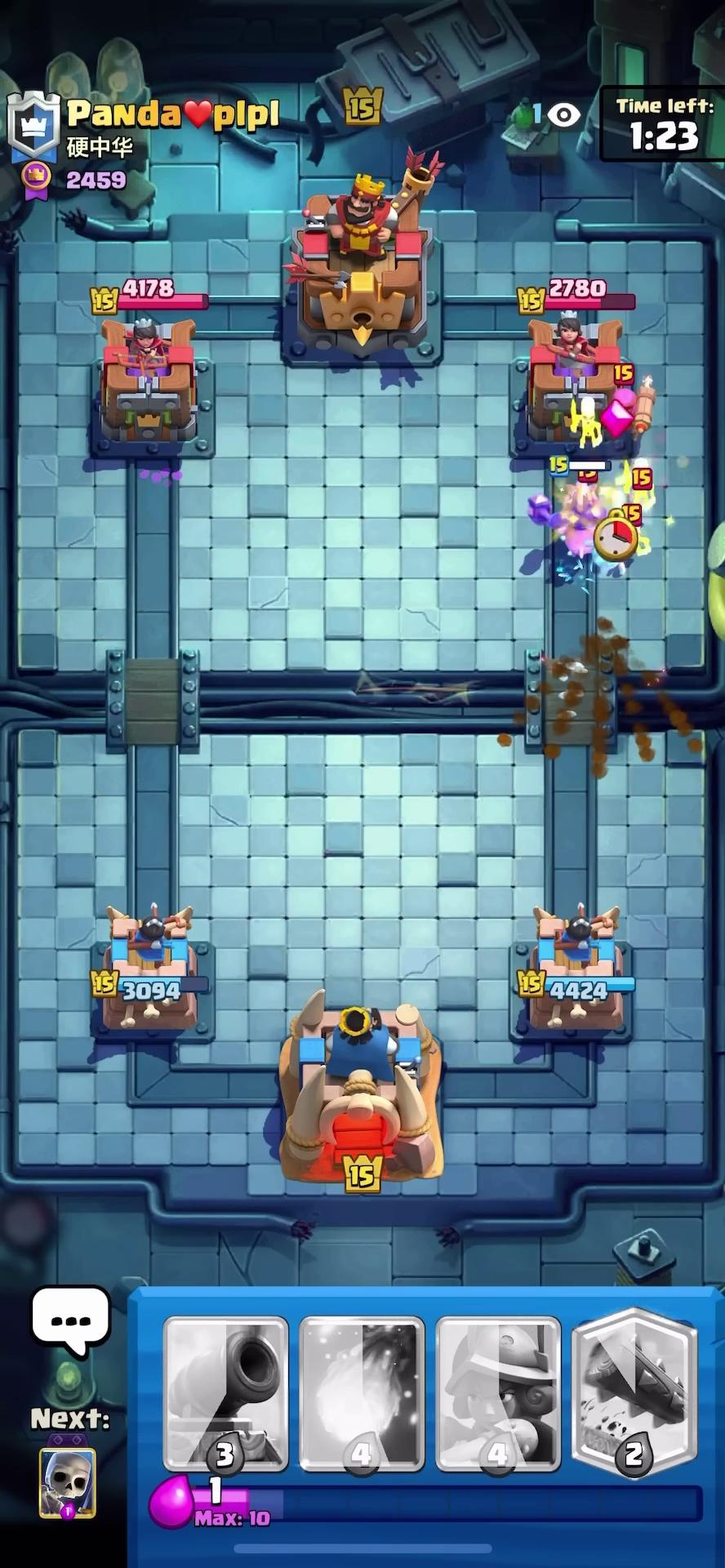hog_rider: (527, 470, 606, 576)
